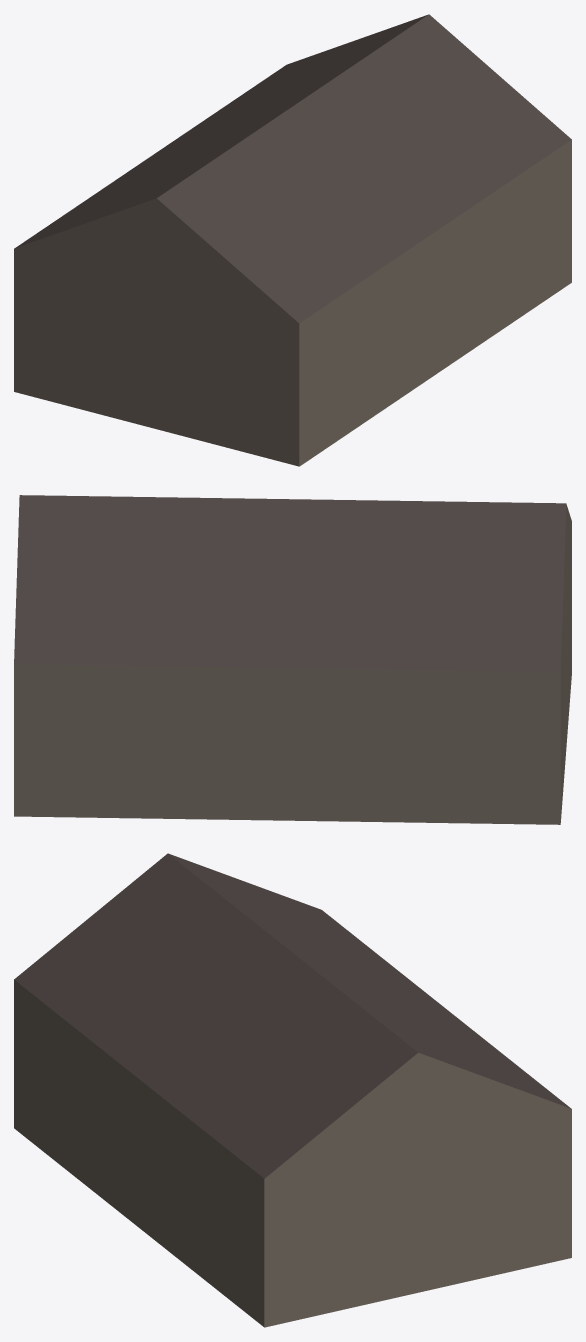
3 views of the same model, one above another, from view 1: azimuth 30°, elevation 25°; view 2: azimuth 150°, elevation 25°; view 3: azimuth 270°, elevation 25° (orthographic). The views are drawn at different scales.
Visible parts, largest first — view 1: HP-w859488753; view 2: HP-w859488753; view 3: HP-w859488753.
Part boxes in pixels (x1,y1,x2,y2): HP-w859488753: [14, 14, 571, 466]; HP-w859488753: [14, 495, 571, 824]; HP-w859488753: [14, 853, 571, 1327].
Bounding box in the file's own units: 23.28 × 9.69 × 20.4.
